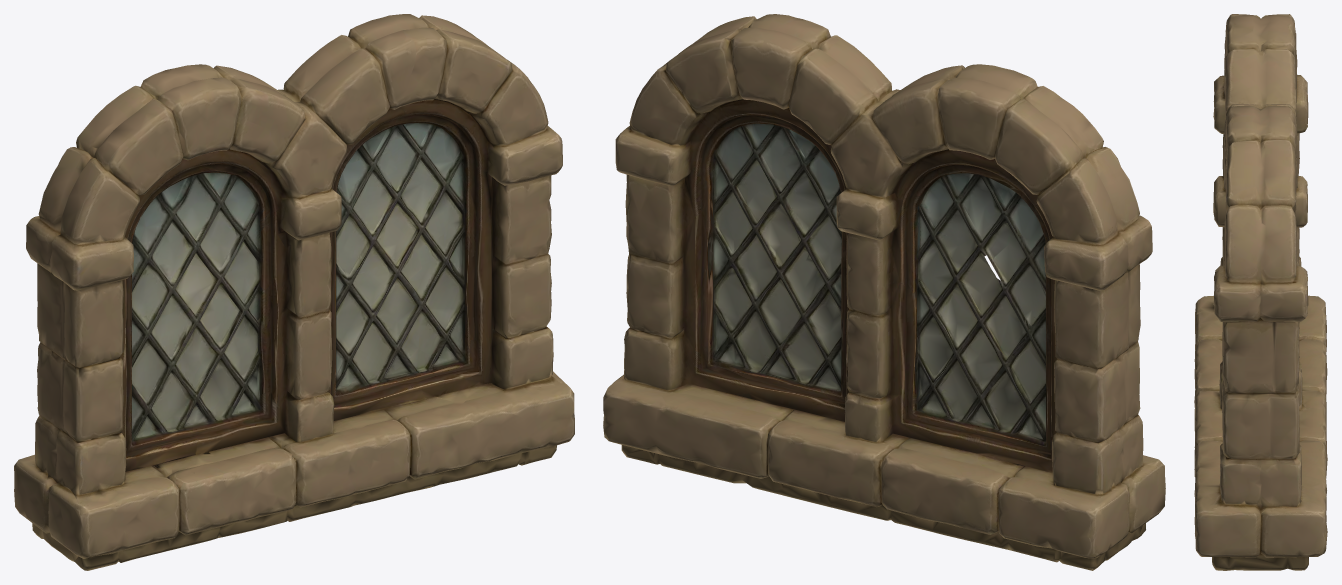
Rendered from mod_win_d.glb.
The picture shows the model from 3 angles, left to right: view 1: azimuth 30°, elevation 25°; view 2: azimuth 150°, elevation 25°; view 3: azimuth 270°, elevation 25°; orthographic projection. The views are drawn at different scales.
Parts seen in each view (by area): view 1: tripo_node_a25eea4e-042b-42ec-b1d4-a11ab3ec56a4; view 2: tripo_node_a25eea4e-042b-42ec-b1d4-a11ab3ec56a4; view 3: tripo_node_a25eea4e-042b-42ec-b1d4-a11ab3ec56a4.
Boxes of the visible parts, bbox=[...] form: tripo_node_a25eea4e-042b-42ec-b1d4-a11ab3ec56a4: bbox=[14, 14, 574, 570]; tripo_node_a25eea4e-042b-42ec-b1d4-a11ab3ec56a4: bbox=[603, 14, 1165, 570]; tripo_node_a25eea4e-042b-42ec-b1d4-a11ab3ec56a4: bbox=[1194, 14, 1327, 570].
Bounding box in the file's own units: 0.9813 × 0.8337 × 0.2521.
Materials: 1 (1 with a texture image).
